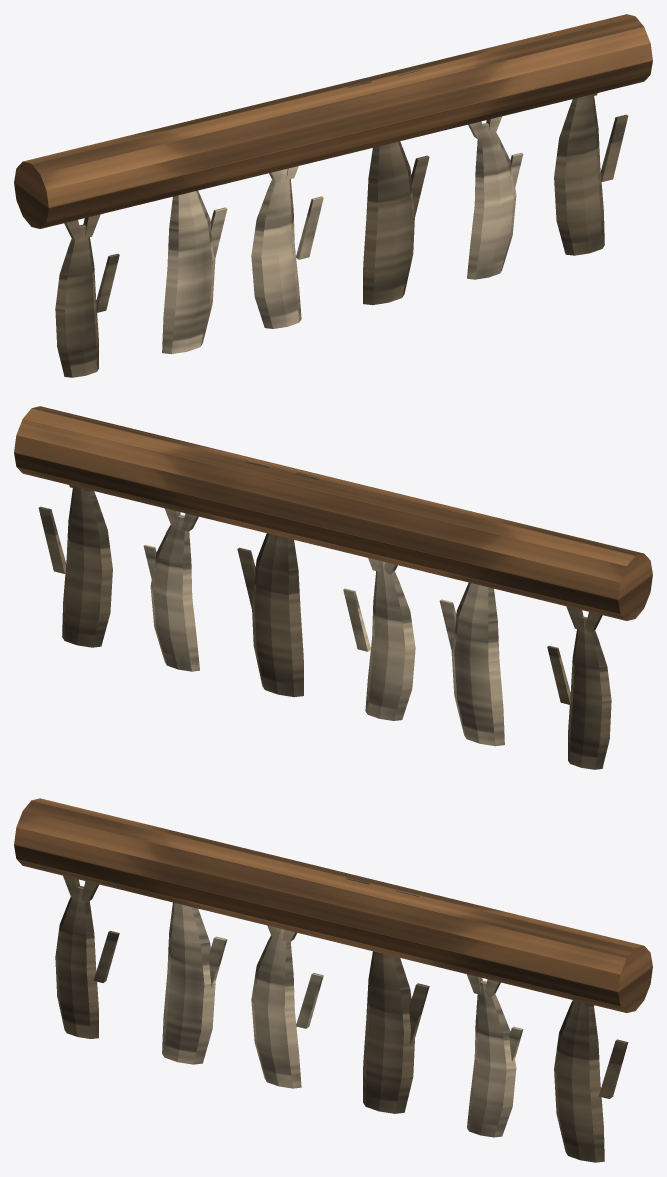
The model's file is dried_fish.fbx.
3 views of the same model, one above another, from view 1: azimuth 30°, elevation 25°; view 2: azimuth 150°, elevation 25°; view 3: azimuth 330°, elevation 25° (orthographic).
Parts seen in each view (by area): view 1: dried_fish; view 2: dried_fish; view 3: dried_fish.
Boxes of the visible parts, box(x1,y1,x2,y2) form: dried_fish: box(14, 14, 652, 377); dried_fish: box(14, 406, 652, 769); dried_fish: box(14, 798, 652, 1162).
Bounding box in the file's own units: 60 × 21 × 6.
